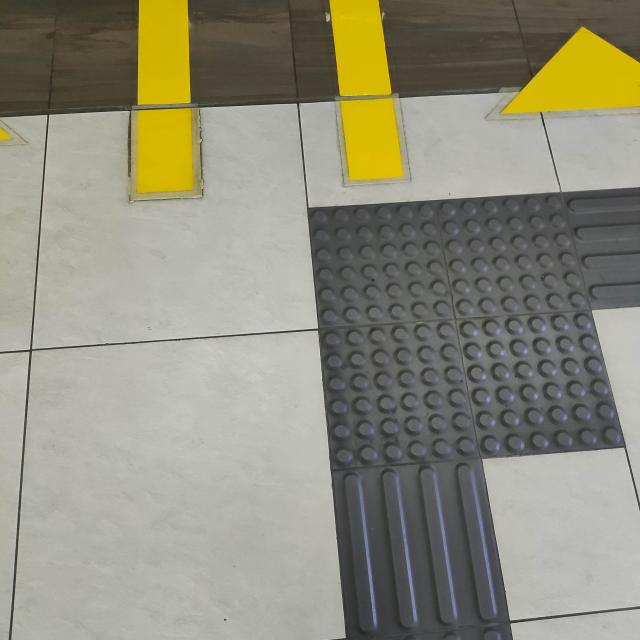kanan: (238, 131, 640, 553)
